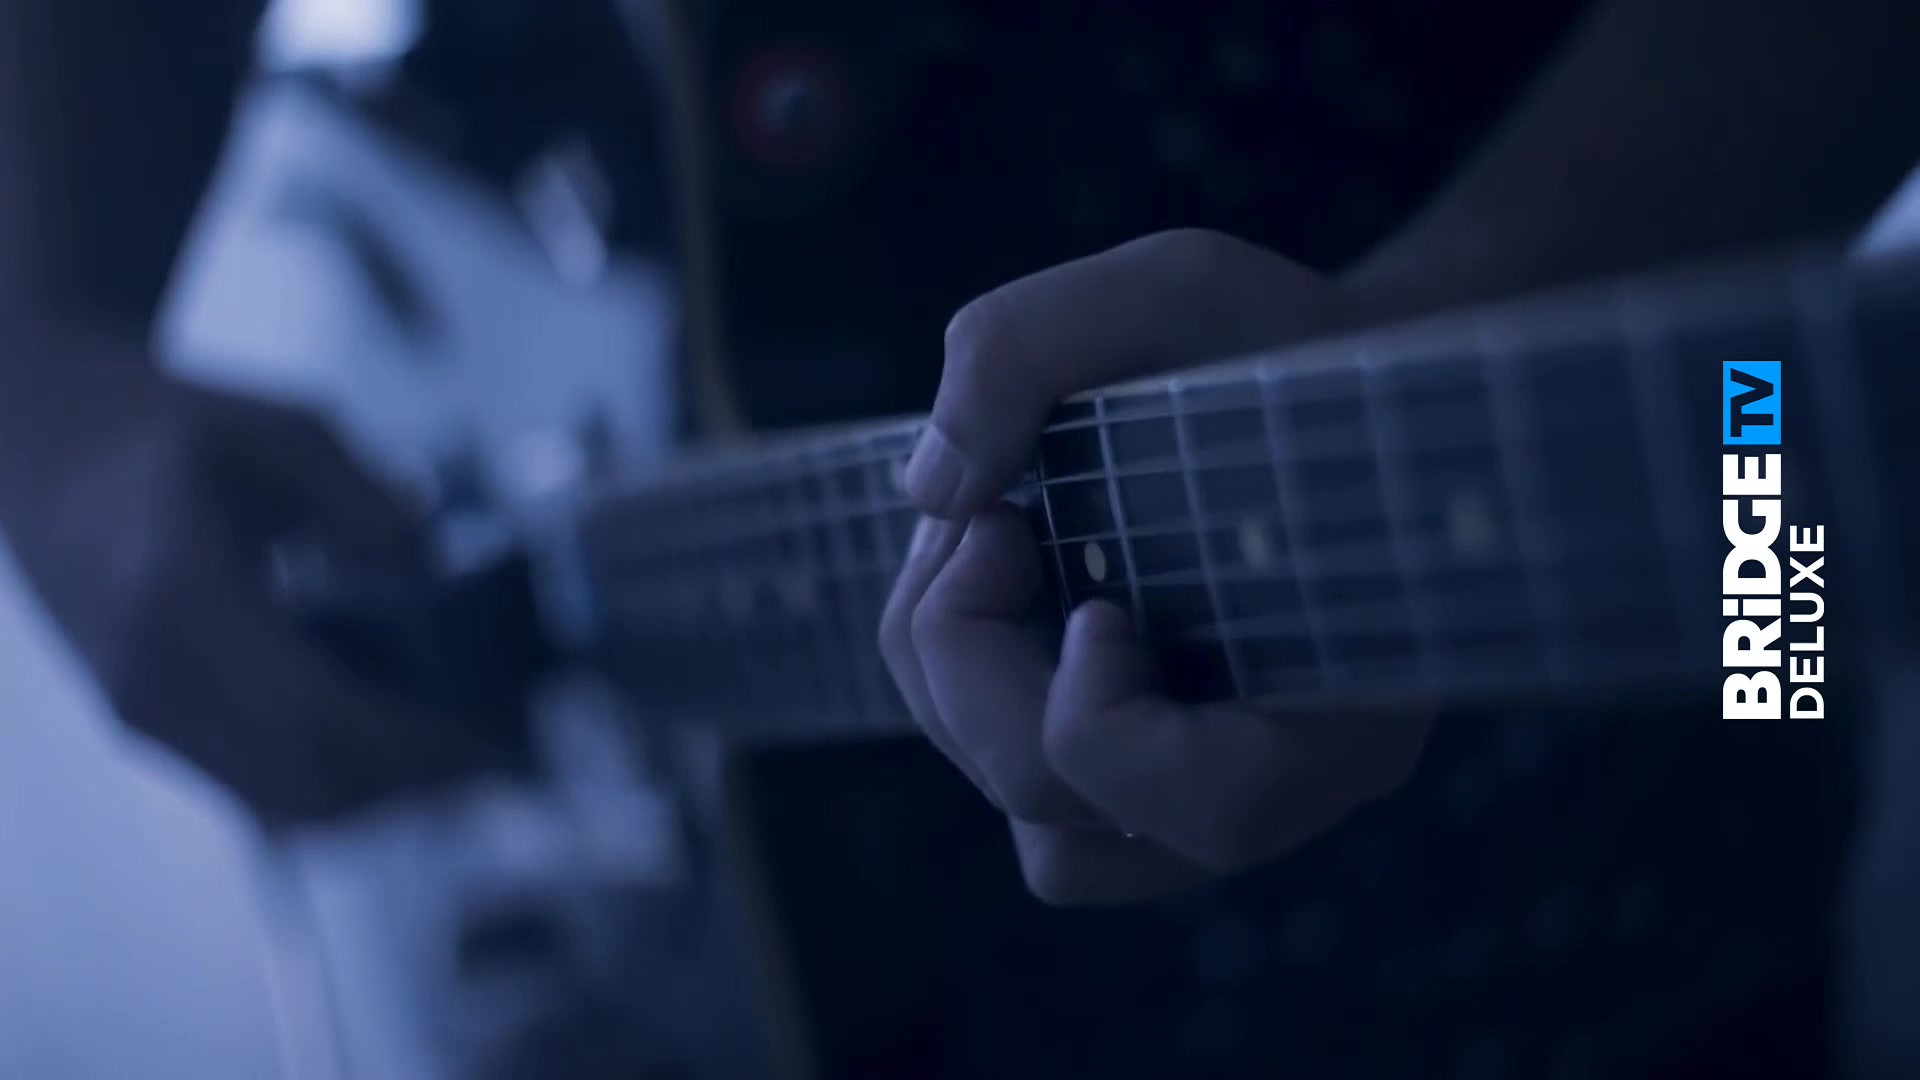Bridge_TV_Deluxe: (1718, 353, 1832, 731)
